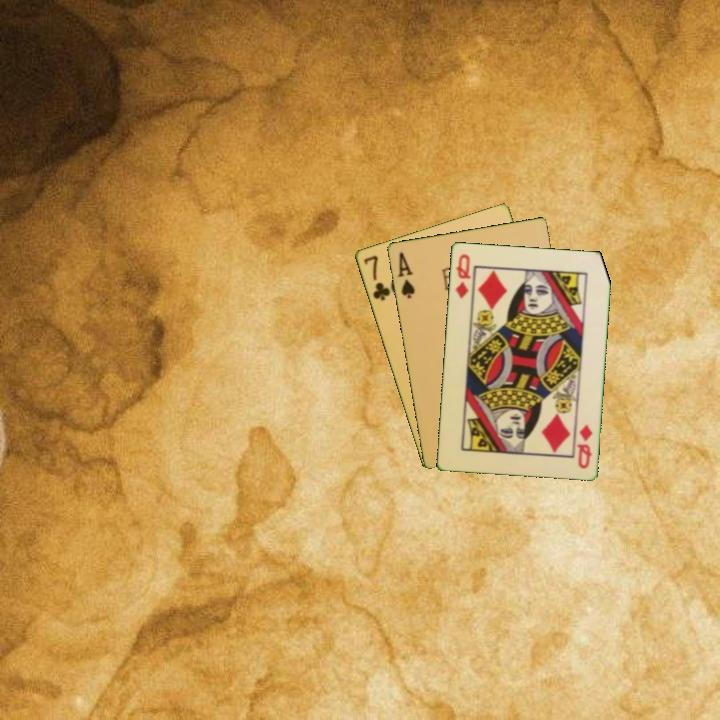7c: (360, 252, 393, 304)
As: (394, 248, 417, 301)
Qd: (573, 421, 595, 471), (452, 250, 473, 301)
